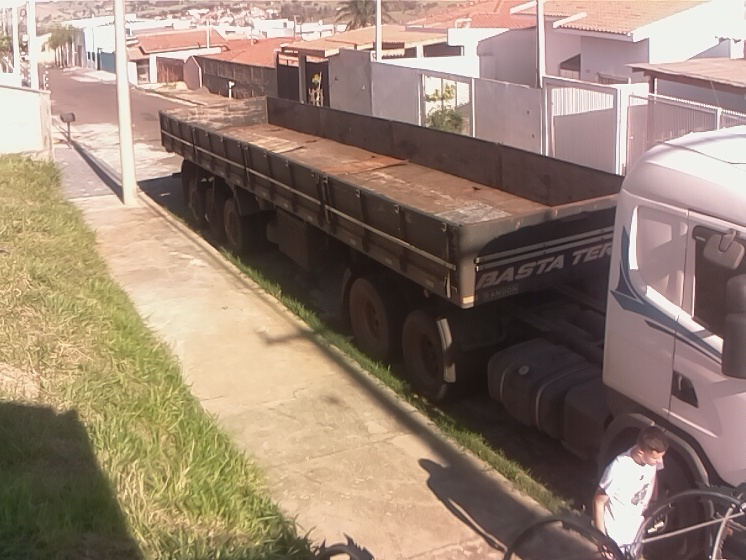person: (587, 424, 671, 560)
